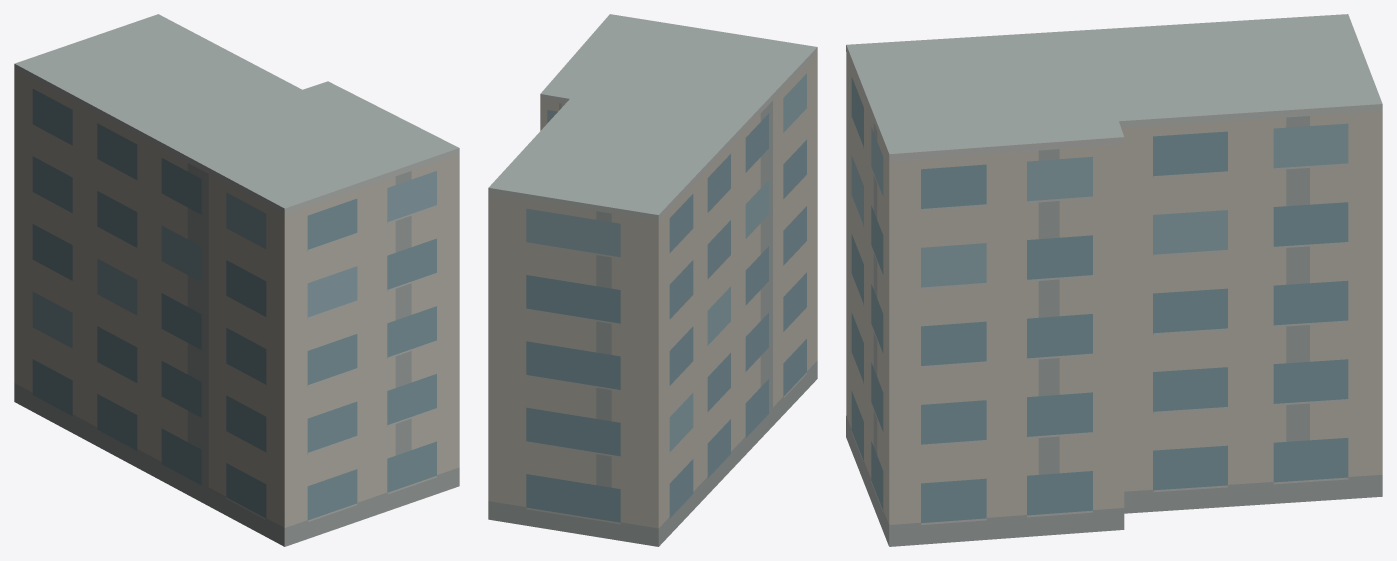
The model's file is survey-upis-32971089.glb.
3 views of the same model, side by side, from view 1: azimuth 30°, elevation 25°; view 2: azimuth 150°, elevation 25°; view 3: azimuth 270°, elevation 25° (orthographic). The views are drawn at different scales.
Parts seen in each view (by area): view 1: survey-upis-32971089.tmp; view 2: survey-upis-32971089.tmp; view 3: survey-upis-32971089.tmp.
Boxes of the visible parts, bbox=[...] form: survey-upis-32971089.tmp: bbox=[14, 14, 459, 546]; survey-upis-32971089.tmp: bbox=[488, 14, 817, 546]; survey-upis-32971089.tmp: bbox=[846, 14, 1382, 546].
Bounding box in the file's own units: 10.11 × 13.2 × 16.35.
